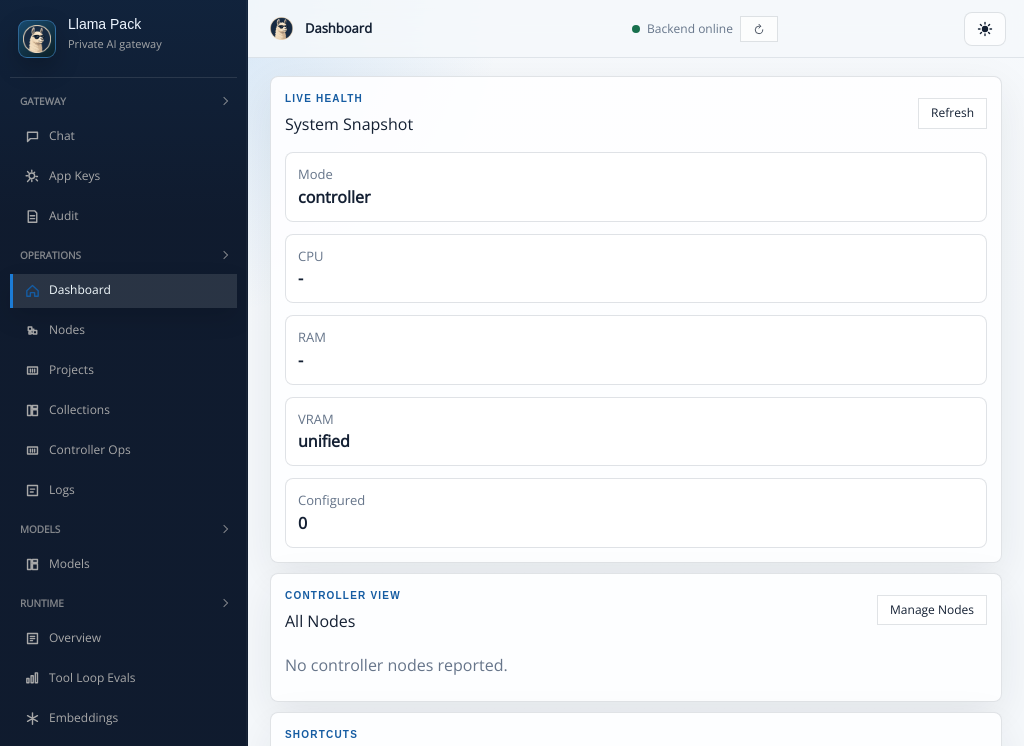
Scenario: routes to the tool-loop evals page from the runtime navigation
Click the link "Tool Loop Evals". click: x=80, y=678
box: x1=24 y1=669 x2=135 y2=687
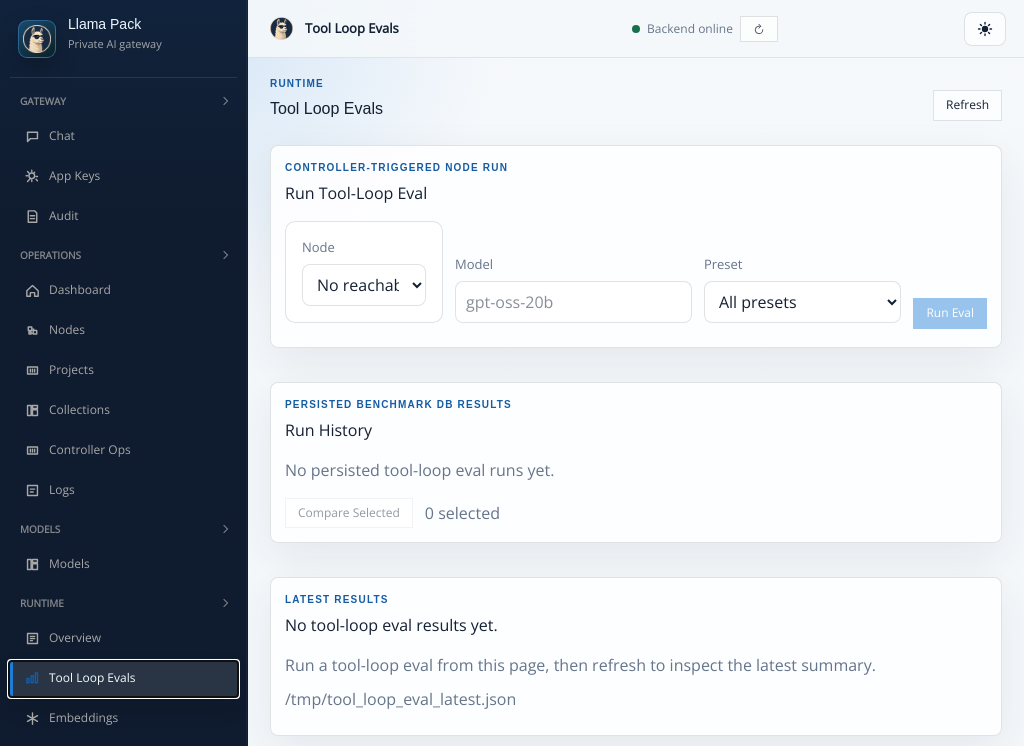
Check: the heading "Tool Loop Evals" is shown, box x1=270 y1=97 x2=383 y2=121
